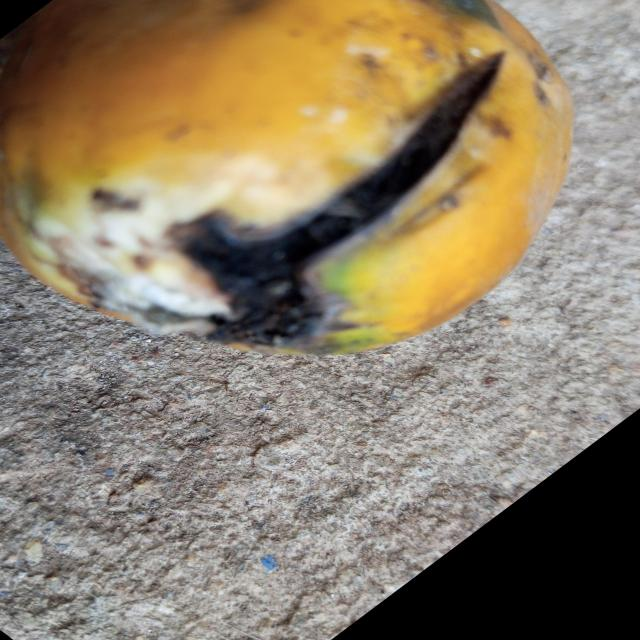damaged: (0, 0, 575, 355)
